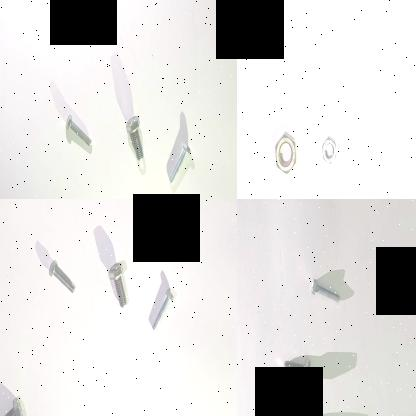Bolts: (148, 279, 176, 337), (166, 132, 192, 190), (122, 105, 148, 162), (105, 256, 131, 310), (46, 255, 78, 297), (64, 105, 93, 150), (281, 344, 311, 386), (308, 272, 342, 308), (0, 387, 26, 416), (395, 401, 416, 416)
NUTS: (272, 126, 296, 176), (320, 128, 338, 168)
